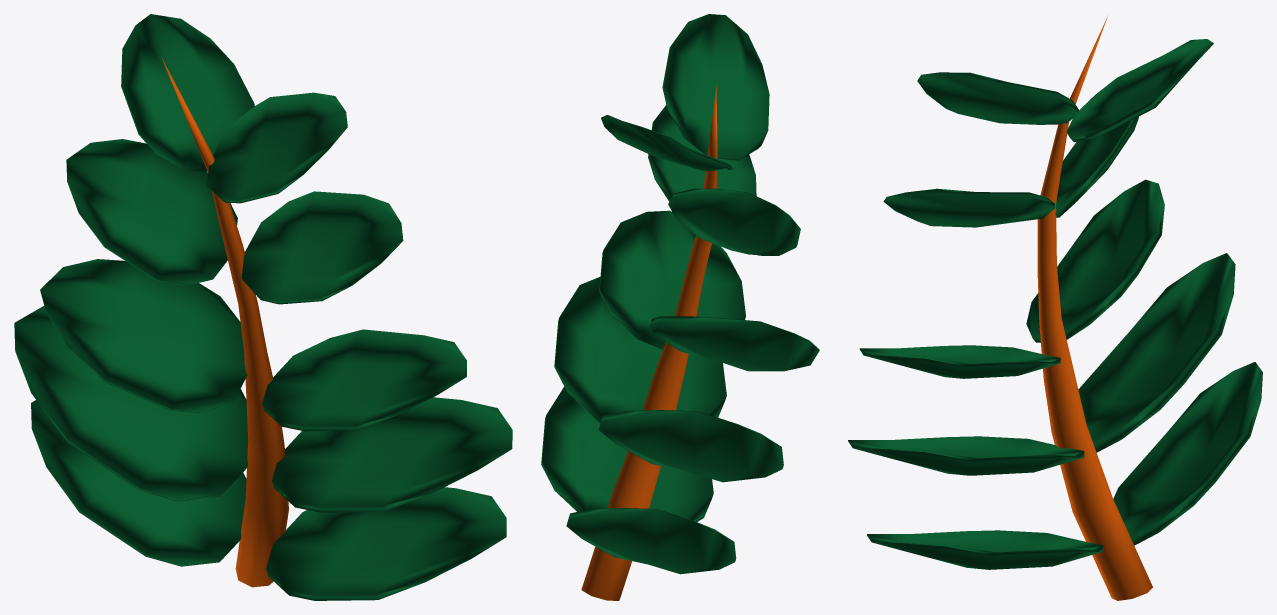
Rendered from Grass_05.fbx.
3 views of the same model, side by side, from view 1: azimuth 30°, elevation 25°; view 2: azimuth 150°, elevation 25°; view 3: azimuth 270°, elevation 25° (orthographic). The views are drawn at different scales.
Parts seen in each view (by area): view 1: grass_05; view 2: grass_05; view 3: grass_05.
Boxes of the visible parts, box(x1,y1,x2,y2) form: grass_05: box(14, 14, 512, 600); grass_05: box(541, 14, 819, 600); grass_05: box(848, 16, 1262, 600).
Size of the model in its own units: 60.86 by 92.57 by 65.22.
Materials: 1 (1 with a texture image).
